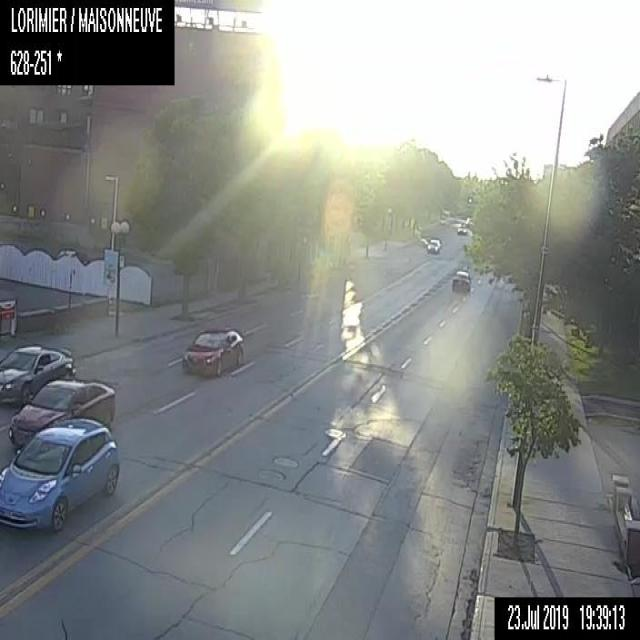vehicle: (0, 416, 118, 535), (8, 378, 115, 446), (0, 343, 75, 408), (181, 326, 244, 377), (451, 266, 470, 291), (426, 237, 441, 253), (457, 223, 465, 234)
